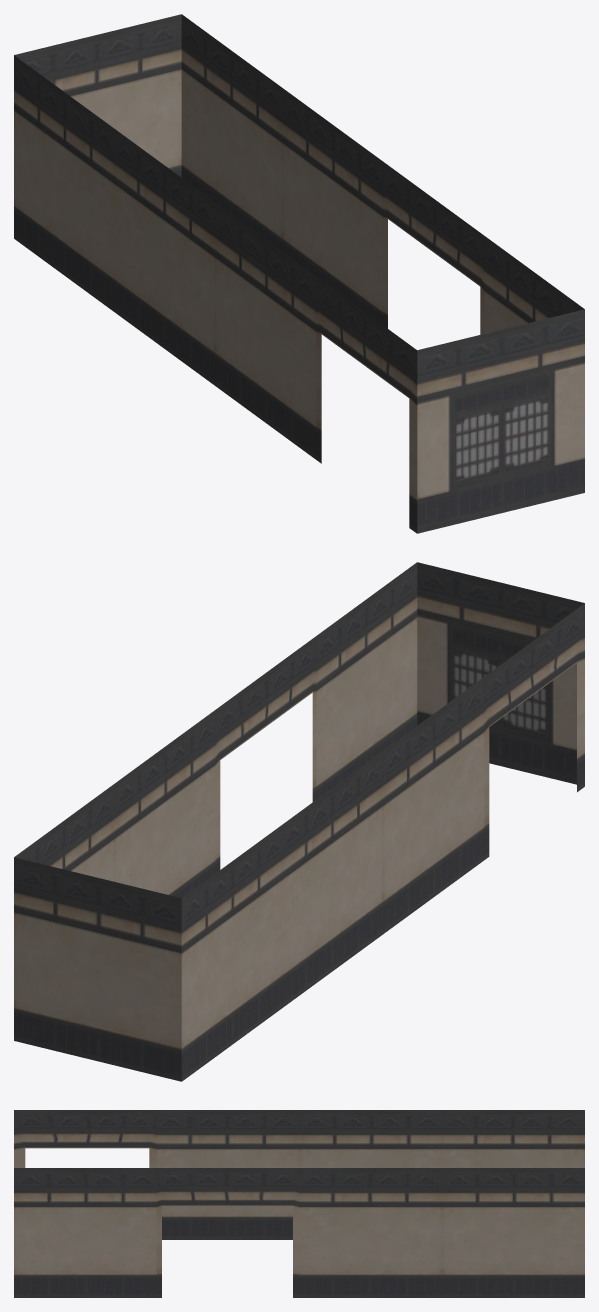
The model's file is Homeworld_Interior_Dq_Room_O_Filling_01_Vo.fbx.
The picture shows the model from 3 angles, top to bottom: view 1: azimuth 30°, elevation 25°; view 2: azimuth 150°, elevation 25°; view 3: azimuth 270°, elevation 25°; orthographic projection. The views are drawn at different scales.
Parts seen in each view (by area): view 1: Homeworld_Interior_Dq_Room_O_Filling_01_Vo; view 2: Homeworld_Interior_Dq_Room_O_Filling_01_Vo; view 3: Homeworld_Interior_Dq_Room_O_Filling_01_Vo.
Part boxes in pixels (left/top/right/bottom): Homeworld_Interior_Dq_Room_O_Filling_01_Vo: left=14, top=14, right=584, bottom=533; Homeworld_Interior_Dq_Room_O_Filling_01_Vo: left=14, top=562, right=584, bottom=1081; Homeworld_Interior_Dq_Room_O_Filling_01_Vo: left=14, top=1110, right=584, bottom=1297.
Size of the model in its own units: 4.76 by 4.98 by 19.83.
